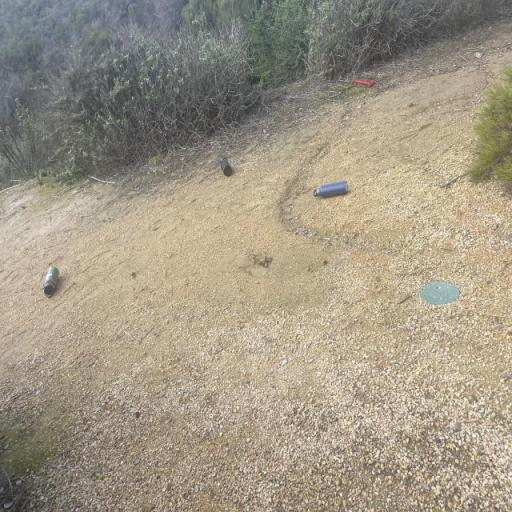bottle: (311, 180, 351, 200), (41, 262, 62, 300), (216, 151, 234, 179)
mallet: (351, 74, 376, 92)
